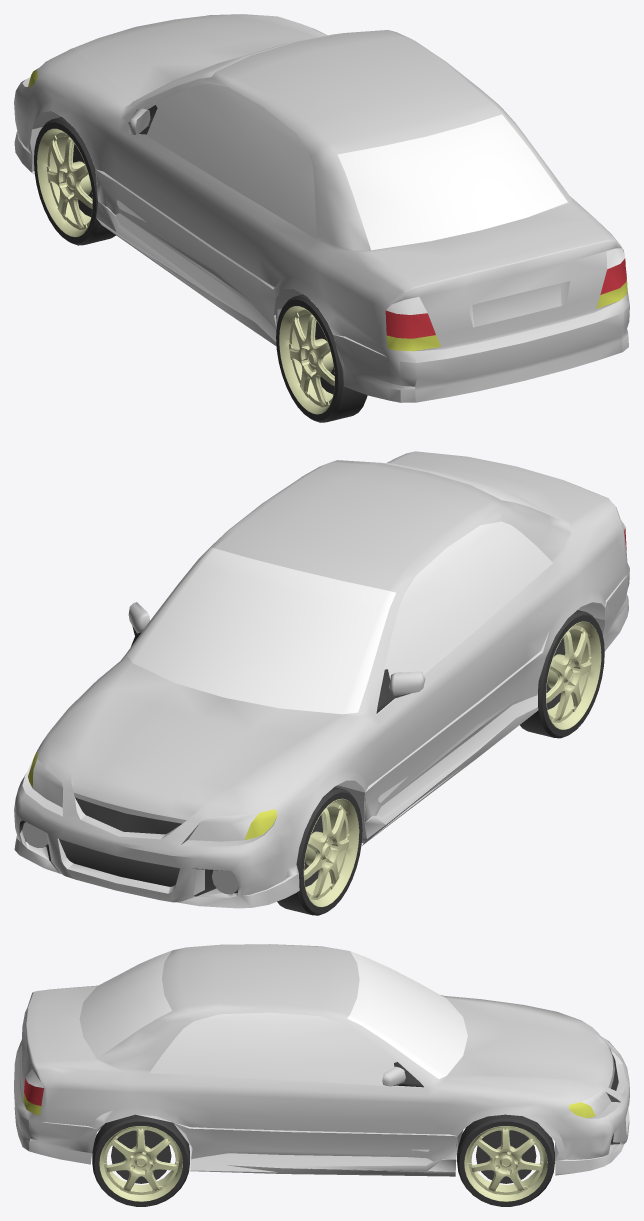
The model's file is GT_001.004_Vehicle.glb.
3 renders of one model, top to bottom at view 1: azimuth 30°, elevation 25°; view 2: azimuth 150°, elevation 25°; view 3: azimuth 270°, elevation 25°, orthographic. The views are drawn at different scales.
Visible parts, largest first — view 1: Body; view 2: Body; view 3: Body.
Boxes of the visible parts, x1=… form: Body: x1=14, y1=14, x2=629, y2=422; Body: x1=14, y1=451, x2=629, y2=915; Body: x1=14, y1=944, x2=629, y2=1206.
Size of the model in its own units: 1.81 by 1.48 by 4.38.
